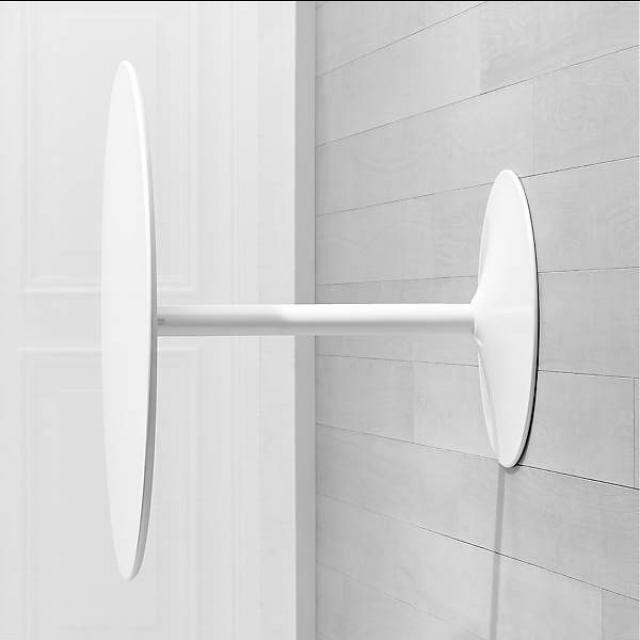table: (95, 57, 541, 580)
